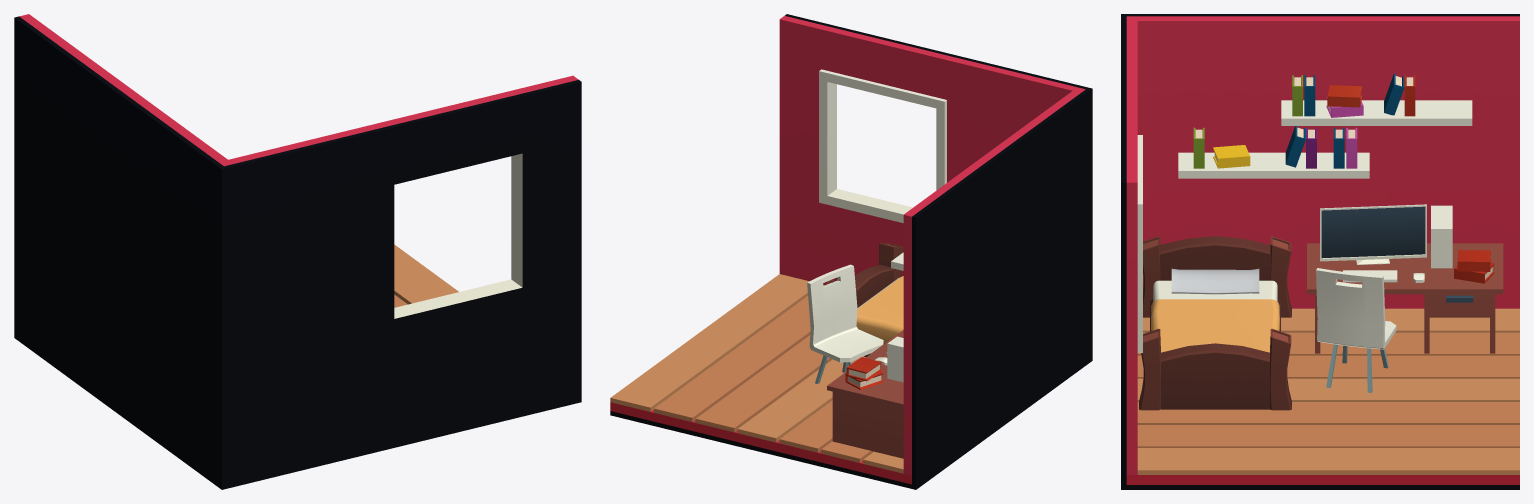
File: bedroom.glb
3 renders of one model, left to right at view 1: azimuth 30°, elevation 25°; view 2: azimuth 150°, elevation 25°; view 3: azimuth 270°, elevation 25°, orthographic. The views are drawn at different scales.
Parts seen in each view (by area): view 1: Walls2, Wood_Plank7; view 2: Walls2, Wood_Plank7, Wood_Plank1, Top2, Wood_Plank2, Bed, Leg3, Wood_Plank3, Top, Wood_Plank4, CPU, Wood_Plank5 (+2 smaller); view 3: Walls2, Bed, Wood_Plank7, Wood_Plank1, Wood_Plank2, Computer, Wood_Plank3, Wood_Plank4, Top2, Top, Wood_Plank5, Shelf2 (+17 smaller).
Boxes of the visible parts, bbox=[...] form: Walls2: bbox=[14, 14, 581, 489]; Wood_Plank7: bbox=[394, 244, 458, 304]; Walls2: bbox=[610, 14, 1092, 489]; Wood_Plank7: bbox=[610, 274, 808, 411]; Wood_Plank1: bbox=[654, 284, 824, 422]; Top2: bbox=[807, 264, 883, 362]; Wood_Plank2: bbox=[695, 335, 832, 432]; Bed: bbox=[825, 243, 903, 356]; Leg3: bbox=[832, 391, 903, 458]; Wood_Plank3: bbox=[737, 356, 865, 442]; Top: bbox=[827, 330, 903, 408]; Wood_Plank4: bbox=[779, 400, 832, 452]; CPU: bbox=[887, 336, 903, 382]; Wood_Plank5: bbox=[821, 441, 873, 462]; Walls2: bbox=[1121, 14, 1519, 489]; Bed: bbox=[1139, 236, 1291, 410]; Wood_Plank7: bbox=[1137, 448, 1519, 474]; Wood_Plank1: bbox=[1137, 425, 1519, 447]; Wood_Plank2: bbox=[1137, 402, 1519, 424]; Computer: bbox=[1320, 204, 1426, 264]; Wood_Plank3: bbox=[1137, 378, 1519, 401]; Wood_Plank4: bbox=[1137, 355, 1519, 378]; Top2: bbox=[1316, 268, 1396, 349]; Top: bbox=[1307, 243, 1503, 294]; Wood_Plank5: bbox=[1137, 332, 1519, 355]; Shelf2: bbox=[1178, 152, 1369, 178].
Size of the model in its own units: 3.65 by 3.11 by 3.65.
Materials: 1 (1 with a texture image).
